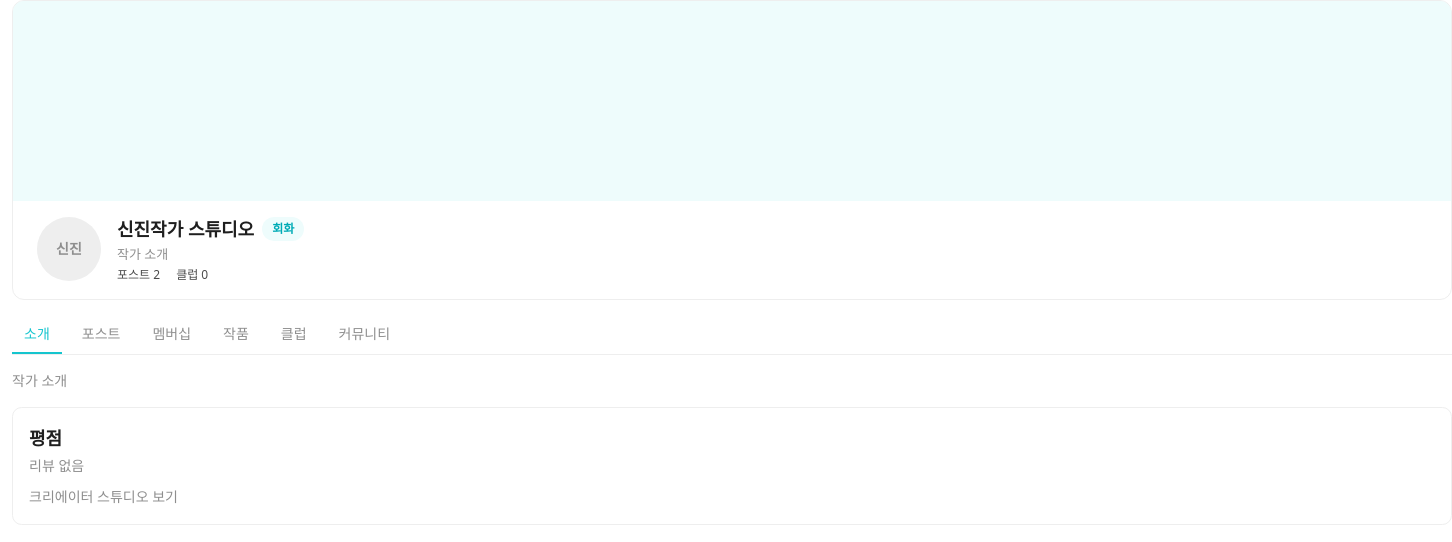
Test: /creators/[creatorId] (AC-002, AC-003, AC-007) › renders membership plan card with price and CTA (AC-003) — 비멤버에게 가입하기 링크
Click the tab "멤버십": (172, 335) [140,316,203,354]
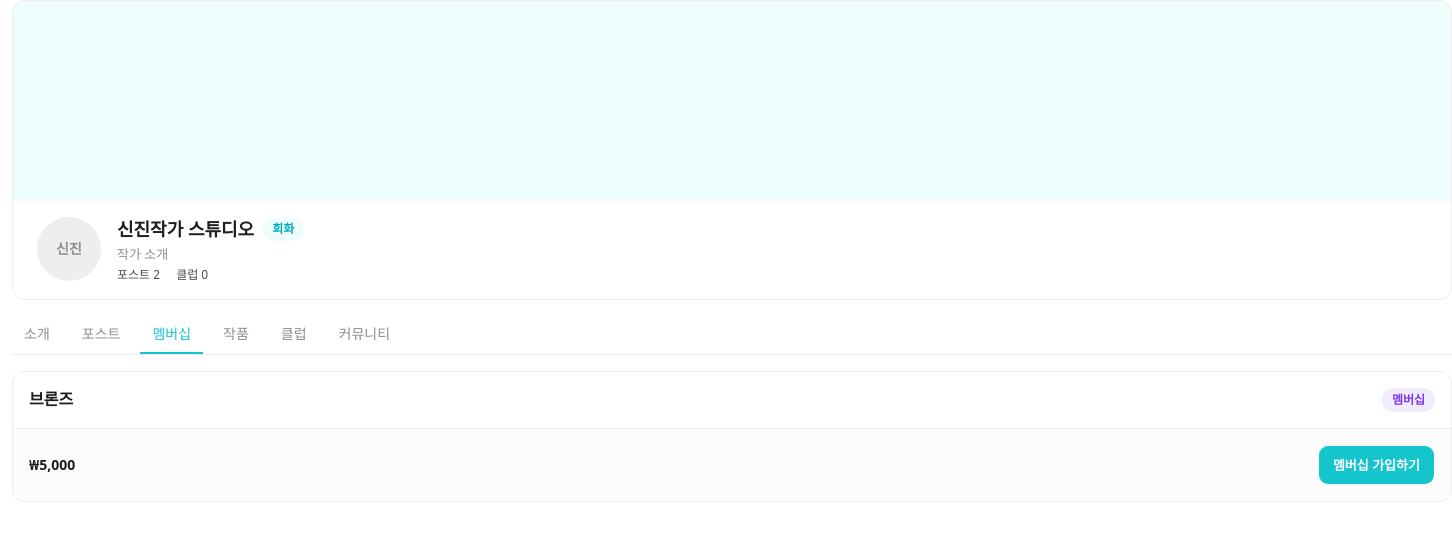
Result: the text "브론즈" is shown at [29,388,73,410]
Result: the text "₩5,000" is shown at [29,455,75,475]
